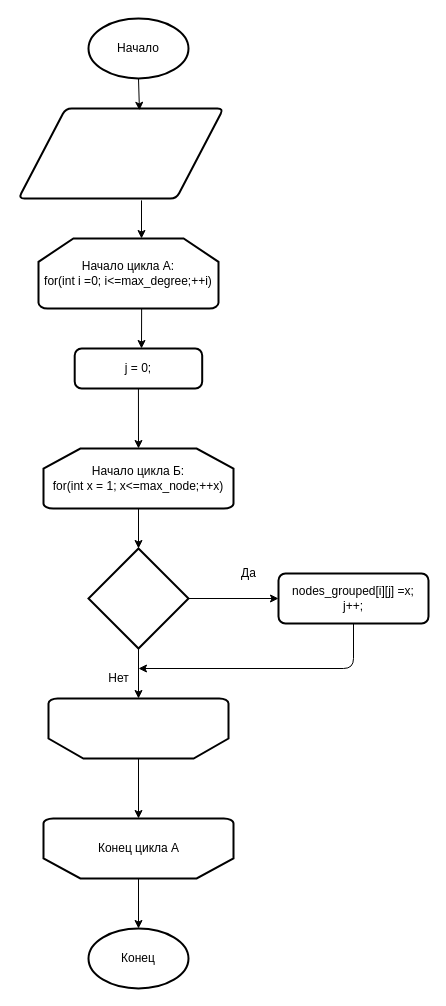
Image size: 446x1006. Some labels were removed from this diagram. The centre of each missing label's shape, as x and y in pixels:
"degrees[x]==i" belongs at (x=138, y=598).
"nodes_grouped[100][100], max_degree,max_node" belongs at (x=120, y=153).
"Конец цикла Б" belongs at (x=138, y=728).
